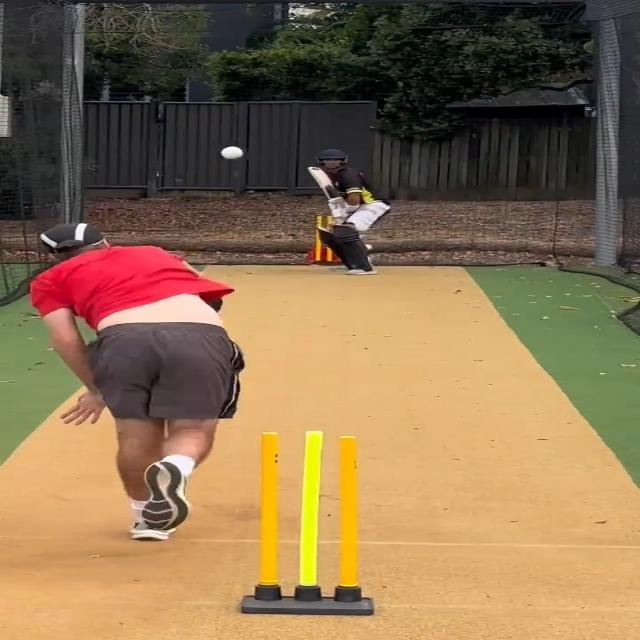ball: (222, 145, 247, 162)
stump: (240, 428, 375, 616)
